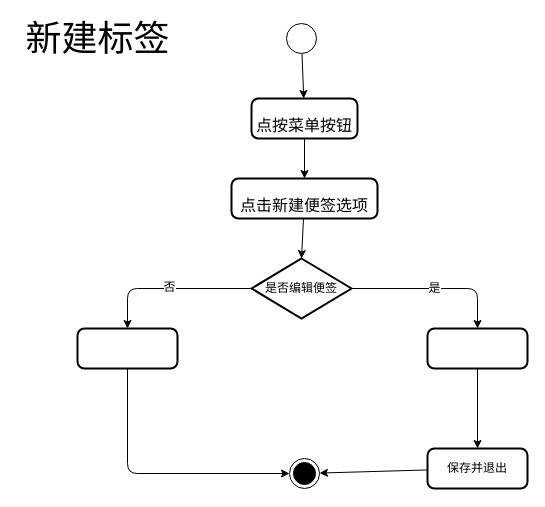
Some shapes in this 545 by 507 pixel diagram are drawn without their labels. Here are the shapes that lost their labels. From the top down, the box of each, then its label:
(76, 327, 178, 369): 不保存并退出
(426, 327, 528, 369): 编辑便签
